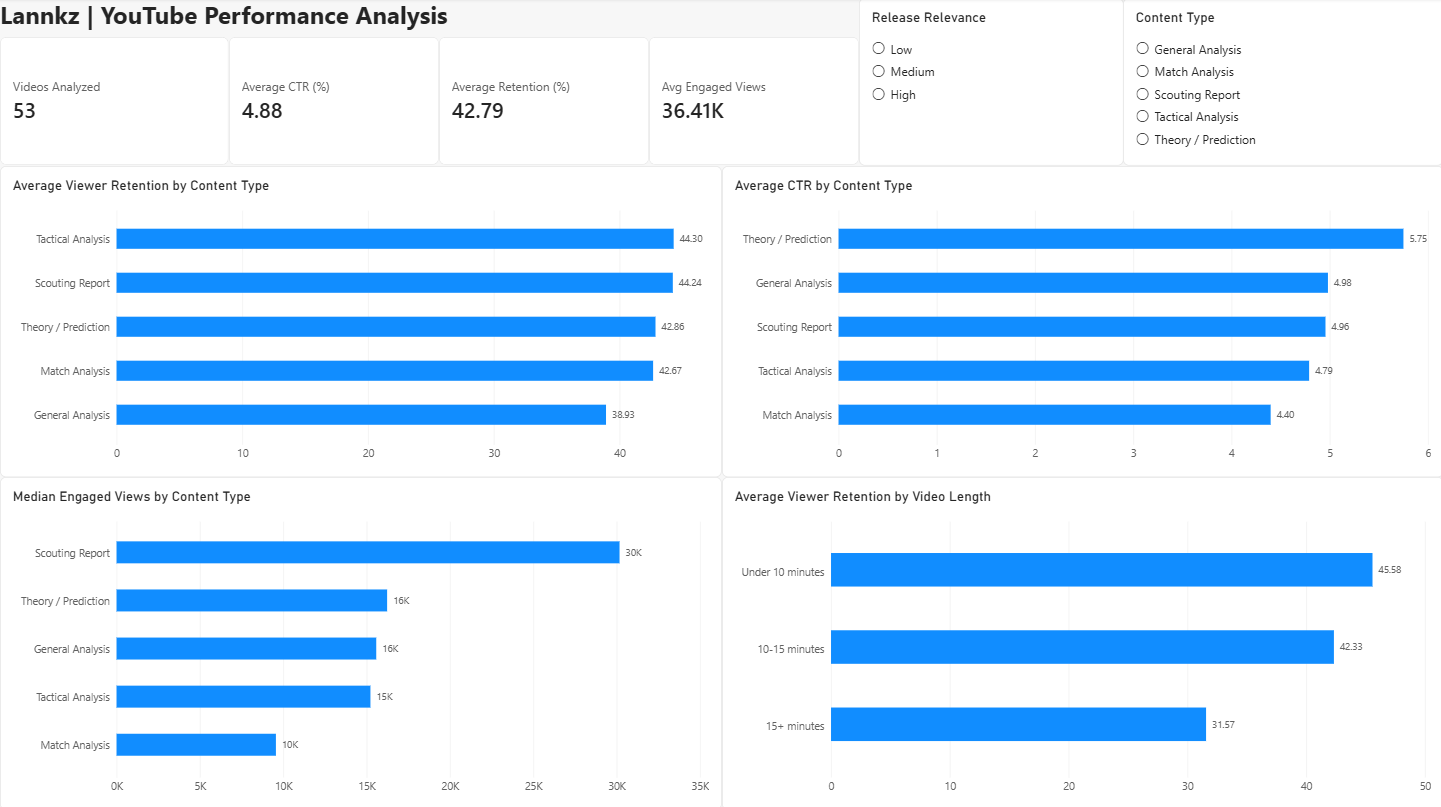

The page's visual inventory and layout, read from the dashboard file:
{"tool":"powerbi","page":{"name":"Supporting Analysis","canvas":[1920,1080],"ordinal":0},"visuals":[{"type":"cardVisual","fields":{"Data":["Count(lannkz_videos_cleaned.video_id)"]},"box":[0,52.1,304.1,170.9],"z":0},{"type":"cardVisual","fields":{"Data":["Avg(lannkz_videos_cleaned.ctr)"]},"box":[304.1,52.1,279.5,170.9],"z":1000},{"type":"cardVisual","fields":{"Data":["Avg(lannkz_videos_cleaned.avg_percentage_viewed)"]},"box":[583.5,52.1,279.5,170.9],"z":2000},{"type":"cardVisual","fields":{"Data":["Avg(lannkz_videos_cleaned.engaged_views)"]},"box":[863,52.1,279.5,170.9],"z":3000},{"type":"clusteredBarChart","title":"Average Viewer Retention by Content Type","fields":{"Category":["lannkz_videos_cleaned.content_type"],"Y":["Avg(lannkz_videos_cleaned.avg_percentage_viewed)"]},"box":[0,223,960,414.1],"z":4000},{"type":"clusteredBarChart","title":"Average CTR by Content Type","fields":{"Category":["lannkz_videos_cleaned.content_type"],"Y":["Avg(lannkz_videos_cleaned.ctr)"]},"box":[960,223,960,414.1],"z":5000},{"type":"clusteredBarChart","title":"Median Engaged Views by Content Type","fields":{"Category":["lannkz_videos_cleaned.content_type"],"Y":["Median(lannkz_videos_cleaned.engaged_views)"]},"box":[0,637.1,960,443.1],"z":6000},{"type":"clusteredBarChart","title":"Average Viewer Retention by Video Length","fields":{"Category":["lannkz_videos_cleaned.Duration Group"],"Y":["Avg(lannkz_videos_cleaned.avg_percentage_viewed)"]},"box":[960,637.1,960,443.1],"z":7000},{"type":"listSlicer","fields":{"Values":["lannkz_videos_cleaned.content_type"]},"box":[1494.3,0,425.7,223],"z":8000},{"type":"listSlicer","fields":{"Values":["lannkz_videos_cleaned.release_relevance"]},"box":[1142.4,0,351.9,223],"z":9000},{"type":"textbox","box":[0,0,1436.4,52.1],"z":9001}]}

Visuals, with their boxes in screenshot pixels (x1, y1, x2, y2), scaled from the page's 1920x1080 canvas onto the 1441x807 screenshot:
cardVisual - Count(lannkz_videos_cleaned.video_id): (0, 39, 228, 167)
cardVisual - Avg(lannkz_videos_cleaned.ctr): (228, 39, 438, 167)
cardVisual - Avg(lannkz_videos_cleaned.avg_percentage_viewed): (438, 39, 648, 167)
cardVisual - Avg(lannkz_videos_cleaned.engaged_views): (648, 39, 857, 167)
"Average Viewer Retention by Content Type" clusteredBarChart: (0, 167, 720, 476)
"Average CTR by Content Type" clusteredBarChart: (720, 167, 1440, 476)
"Median Engaged Views by Content Type" clusteredBarChart: (0, 476, 720, 806)
"Average Viewer Retention by Video Length" clusteredBarChart: (720, 476, 1440, 806)
listSlicer - lannkz_videos_cleaned.content_type: (1122, 0, 1440, 167)
listSlicer - lannkz_videos_cleaned.release_relevance: (857, 0, 1122, 167)
textbox: (0, 0, 1078, 39)
